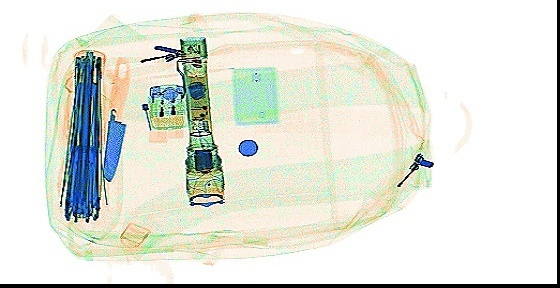knife: (102, 56, 131, 182)
lighter: (146, 81, 166, 141), (161, 86, 183, 139)
